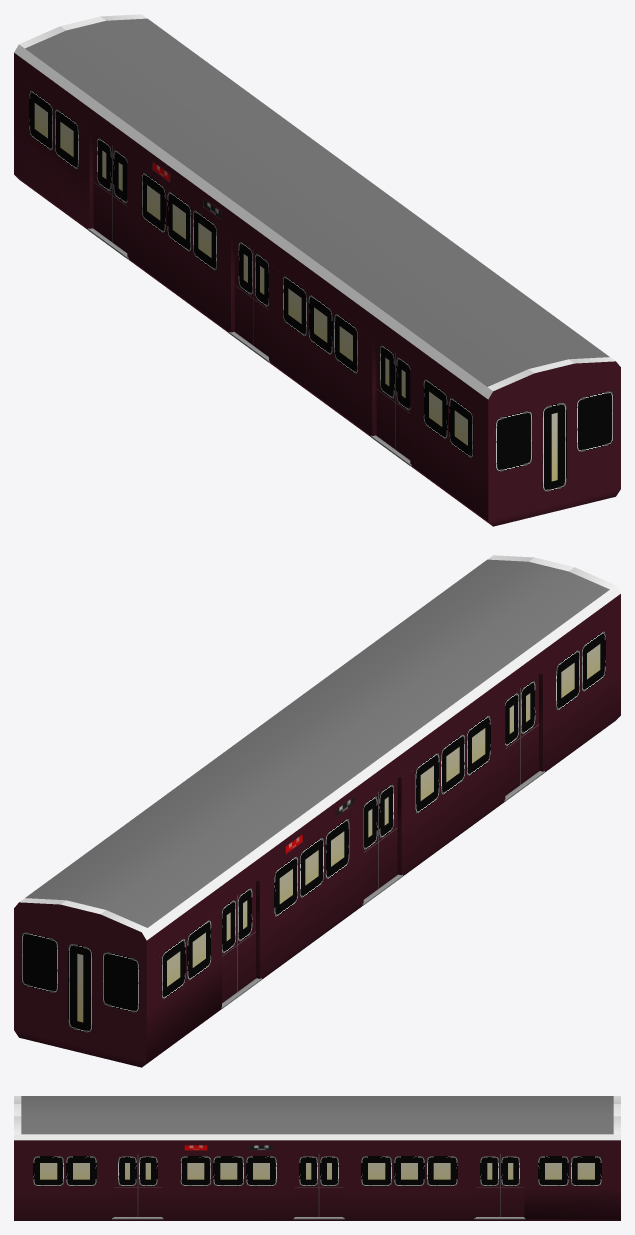
3 renders of one model, top to bottom at view 1: azimuth 30°, elevation 25°; view 2: azimuth 150°, elevation 25°; view 3: azimuth 270°, elevation 25°, orthographic. The views are drawn at different scales.
Visible parts, largest first — view 1: in_light; view 2: in_light; view 3: in_light.
Boxes of the visible parts, <box> form: in_light: <box>14,14,620,526</box>; in_light: <box>14,555,620,1067</box>; in_light: <box>14,1096,620,1220</box>.
Bounding box in the file's own units: 6.3 × 6.42 × 38.53.
9 materials, 8 textured.
